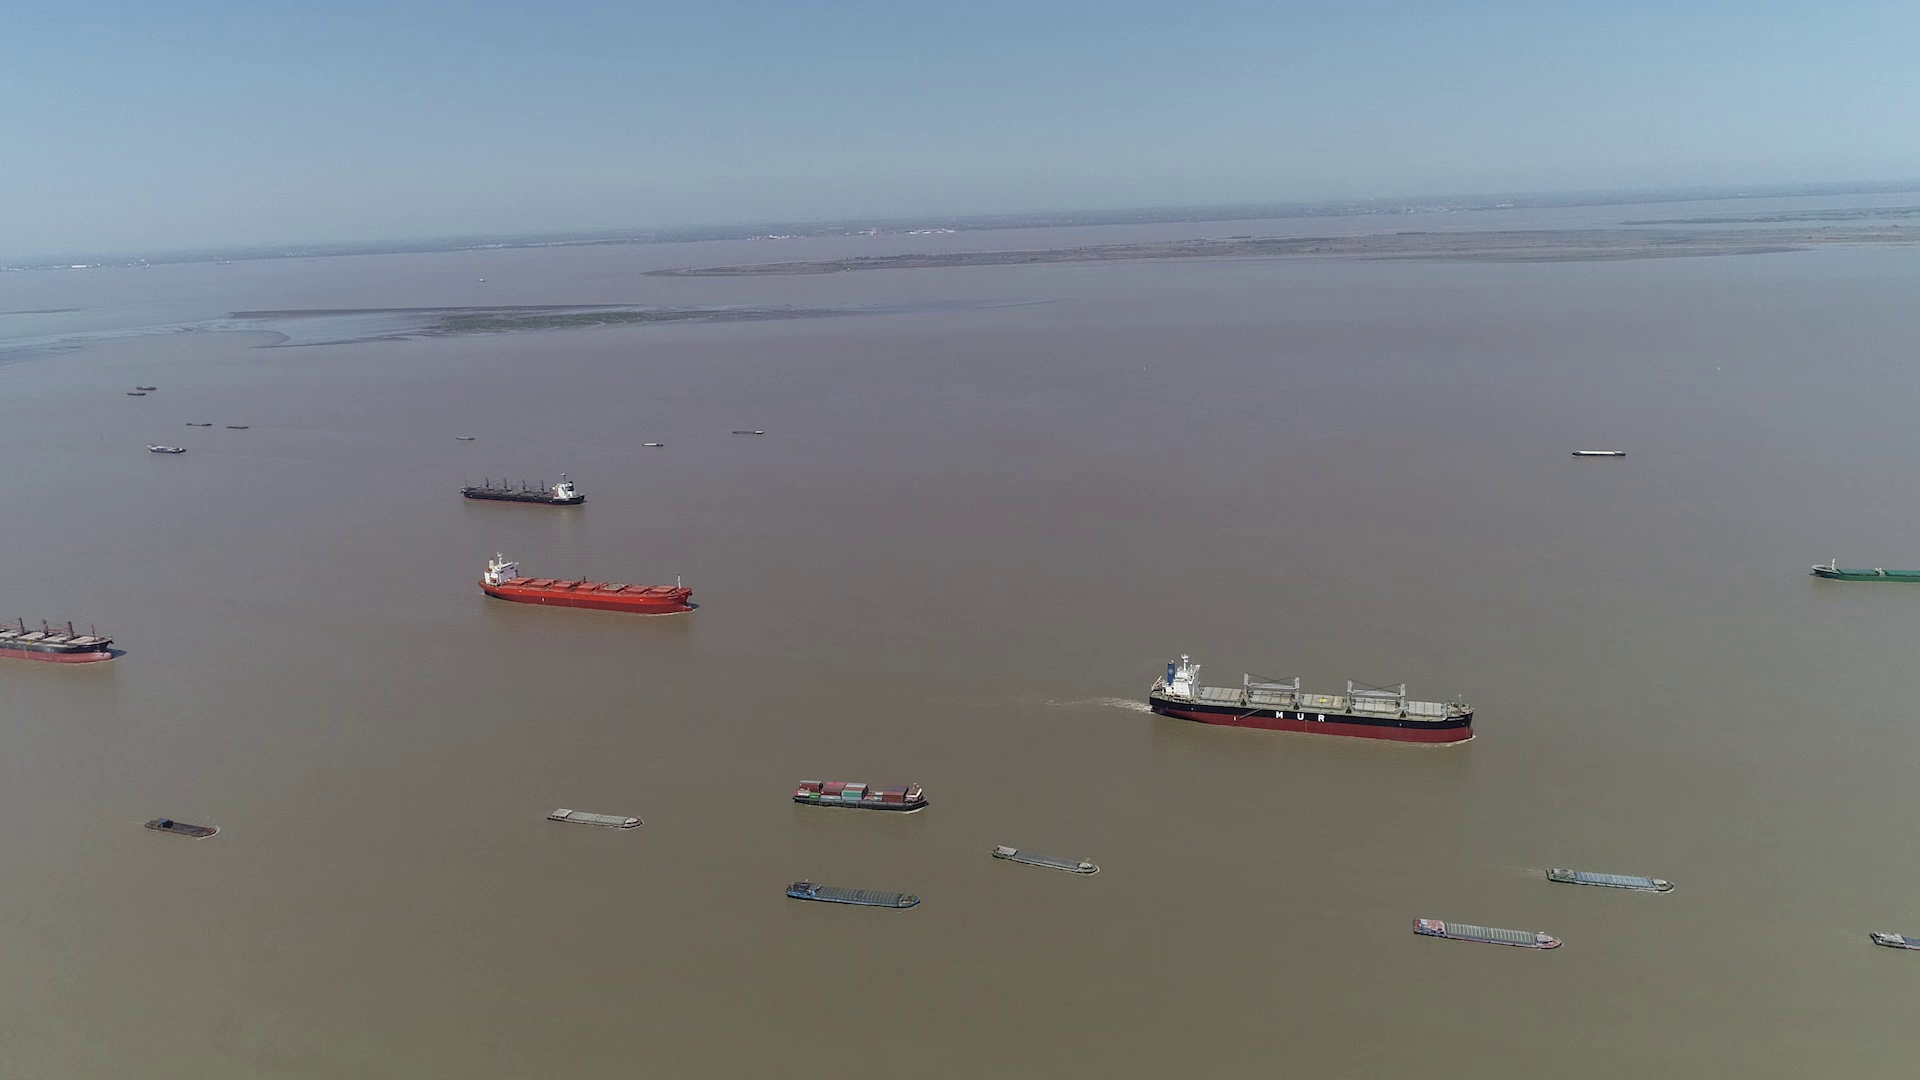ship: (1149, 655, 1474, 742), (483, 553, 694, 615), (1, 603, 117, 665), (1412, 916, 1563, 949), (791, 779, 928, 812), (782, 880, 920, 910), (463, 473, 585, 506), (1547, 866, 1675, 893), (992, 844, 1097, 876), (1809, 560, 1917, 583), (547, 806, 644, 829), (145, 818, 219, 837), (1870, 928, 1919, 953), (1571, 447, 1626, 456), (148, 443, 187, 454)
